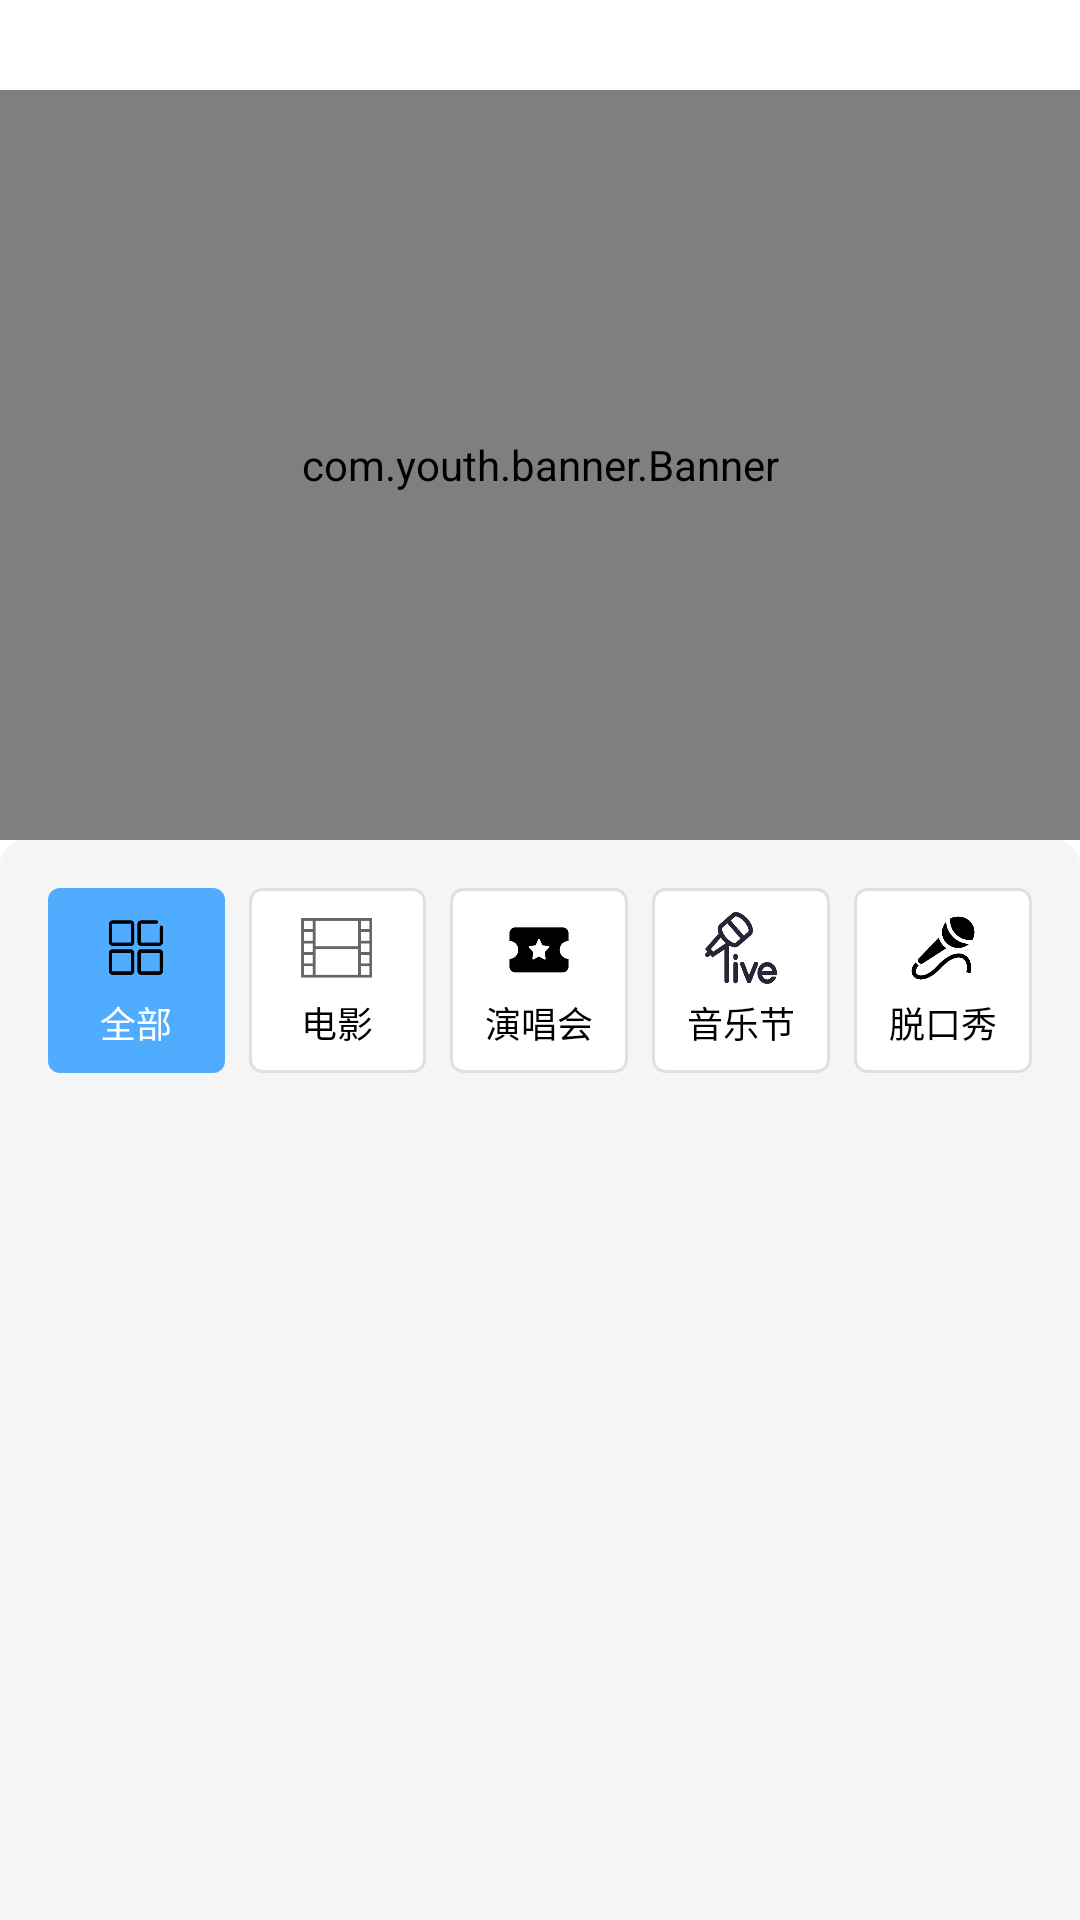

Point at icon controls on the screen. Image size 1080x1920, points as (x=x, y=y).
livehorse: (x=741, y=948)
